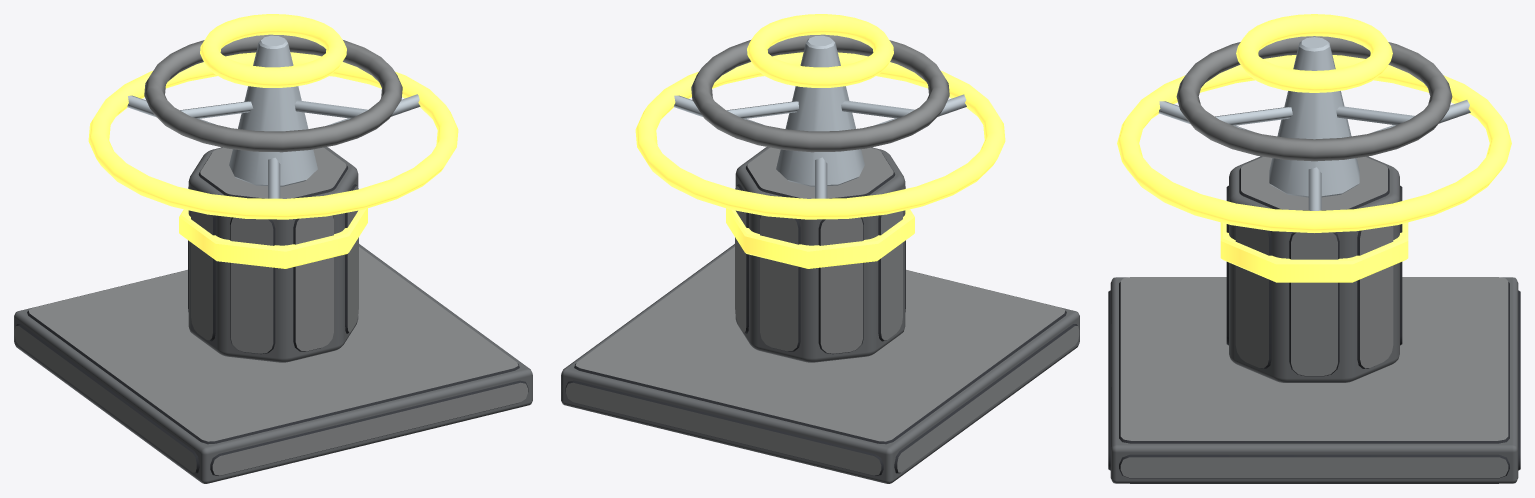
Rendered from R4X_SupportTurretDeployer.glb.
3 views of the same model, side by side, from view 1: azimuth 30°, elevation 25°; view 2: azimuth 150°, elevation 25°; view 3: azimuth 270°, elevation 25° (orthographic). The views are drawn at different scales.
Parts seen in each view (by area): view 1: R4X_SupportTurretDeployer_Pod, R4X_SupportTurretDeployer_Body; view 2: R4X_SupportTurretDeployer_Pod, R4X_SupportTurretDeployer_Body; view 3: R4X_SupportTurretDeployer_Pod, R4X_SupportTurretDeployer_Body.
Part boxes in pixels (left/top/right/bottom): R4X_SupportTurretDeployer_Pod: left=88, top=14, right=458, bottom=362; R4X_SupportTurretDeployer_Body: left=14, top=244, right=532, bottom=483; R4X_SupportTurretDeployer_Pod: left=635, top=14, right=1005, bottom=362; R4X_SupportTurretDeployer_Body: left=561, top=244, right=1079, bottom=483; R4X_SupportTurretDeployer_Pod: left=1117, top=14, right=1511, bottom=382; R4X_SupportTurretDeployer_Body: left=1108, top=277, right=1520, bottom=483.
Bounding box in the file's own units: 0.52 × 0.5 × 0.52.
